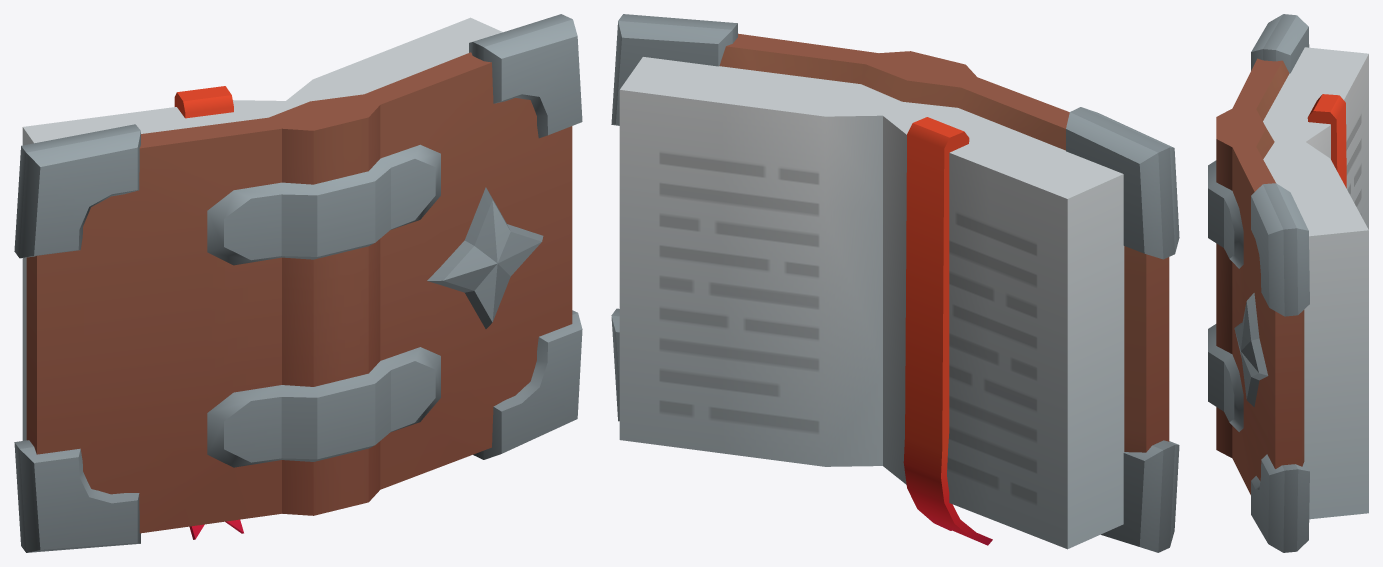
Rendered from Cleric_Tome.obj.
3 renders of one model, left to right at view 1: azimuth 30°, elevation 25°; view 2: azimuth 150°, elevation 25°; view 3: azimuth 270°, elevation 25°, orthographic. The views are drawn at different scales.
Visible parts, largest first — view 1: Cleric_Tome; view 2: Cleric_Tome; view 3: Cleric_Tome.
Boxes of the visible parts, x1,y1,x2,y2 form: Cleric_Tome: (14, 14, 582, 552); Cleric_Tome: (611, 14, 1179, 552); Cleric_Tome: (1208, 14, 1368, 552).
Bounding box in the file's own units: 0.8636 × 0.6528 × 0.2668.
Materials: 1 (1 with a texture image).
